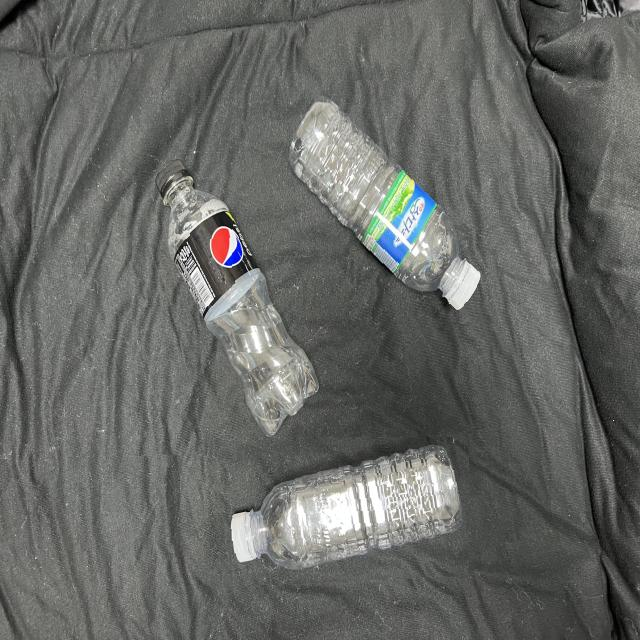plastic bottle: (132, 138, 335, 455), (271, 80, 499, 327), (216, 437, 469, 587)
